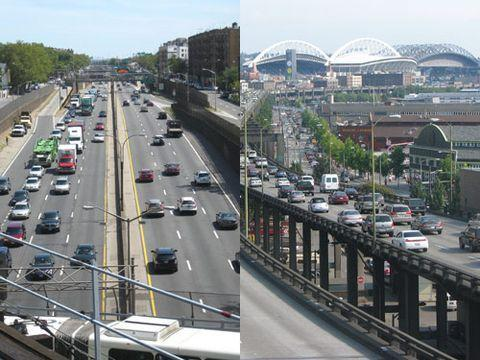car: (252, 222, 298, 250), (240, 144, 268, 189), (393, 229, 433, 257), (271, 243, 319, 265), (25, 250, 59, 281), (149, 246, 183, 276), (30, 135, 57, 169), (381, 201, 415, 225), (172, 195, 203, 221), (410, 213, 445, 236), (70, 241, 98, 269), (54, 142, 77, 176), (454, 222, 480, 252), (34, 211, 66, 235), (2, 223, 29, 249), (369, 214, 398, 238), (211, 211, 240, 234), (335, 207, 366, 228), (14, 109, 36, 138), (355, 192, 383, 214), (65, 124, 86, 153), (141, 199, 166, 222), (164, 117, 187, 142), (191, 167, 216, 190), (302, 144, 325, 169), (0, 249, 19, 277), (308, 196, 332, 217), (317, 172, 341, 192), (6, 189, 35, 205), (51, 176, 74, 196), (164, 159, 184, 182), (10, 203, 34, 222), (289, 124, 311, 144), (276, 182, 299, 201), (136, 166, 156, 185), (295, 180, 316, 198), (149, 132, 172, 148), (25, 163, 48, 177), (330, 191, 352, 205), (22, 175, 40, 192), (80, 97, 95, 117), (269, 164, 287, 180), (90, 84, 109, 96), (91, 131, 106, 145), (54, 120, 69, 133), (155, 109, 170, 121), (119, 98, 133, 110), (96, 106, 108, 119), (69, 97, 81, 110), (137, 105, 149, 115), (64, 113, 77, 122), (94, 121, 106, 130), (141, 96, 151, 105), (280, 112, 291, 120)
palisade: (291, 237, 480, 360)
